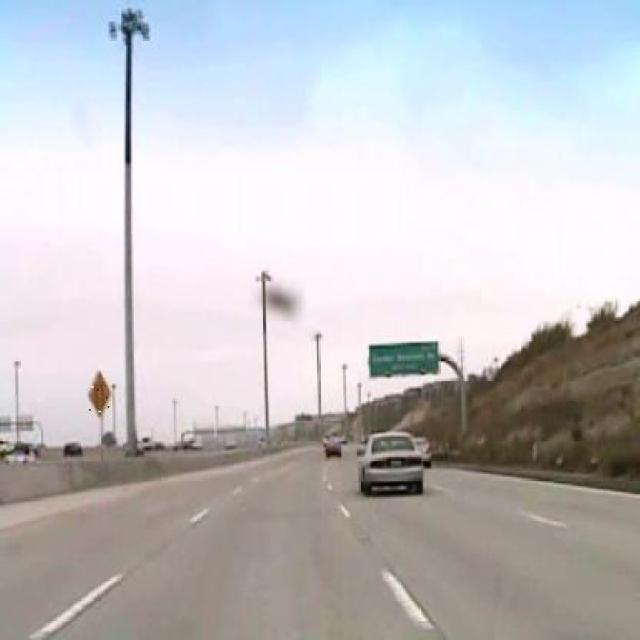laneEnds: (86, 369, 112, 417)
